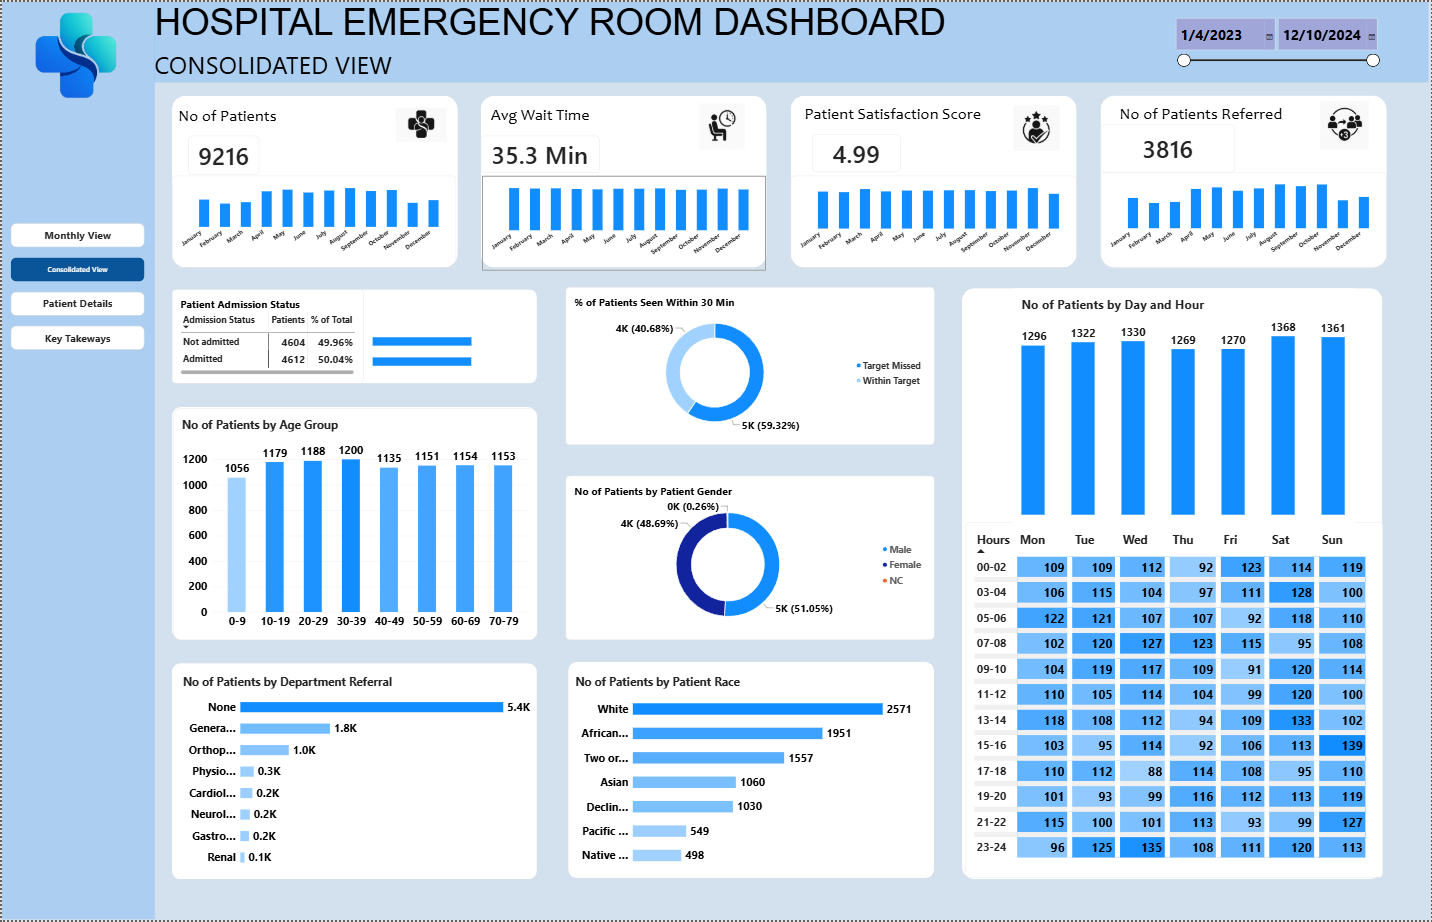

What the dashboard file says about the page in this screenshot:
{"tool":"powerbi","page":{"name":"Consolidated View","canvas":[2800,1800],"ordinal":1},"visuals":[{"type":"shape","box":[0,0,299.7,1797.9],"z":0},{"type":"shape","box":[299.8,0,2496.4,157.8],"z":1000},{"type":"textbox","box":[299.7,0,1587.6,105.1],"z":2000},{"type":"shape","box":[333.8,184,559.9,336.5],"z":3000},{"type":"textbox","box":[299.8,88.4,498.7,69.4],"z":4000},{"type":"card","fields":{"Values":["Hospital ER_Data.No of Patients"]},"box":[365.4,262.9,139.3,76.2],"z":5000},{"type":"slicer","fields":{"Values":["Date Table.Date"]},"box":[2293.3,26.7,410,133.3],"z":6000},{"type":"textbox","box":[344.3,202.4,281.3,42.1],"z":7000},{"type":"shape","box":[1545.6,184,559.9,336.5],"z":8000},{"type":"card","fields":{"Values":["Hospital ER_Data.Satisfaction Score"]},"box":[1587.6,260.2,173.5,73.6],"z":9000},{"type":"textbox","box":[1571.7,198.8,378.7,41],"z":10000},{"type":"columnChart","fields":{"Category":["Date Table.Month Name"],"Y":["Hospital ER_Data.Satisfaction Score"]},"box":[1546.7,340,560,183.3],"z":11000},{"type":"shape","box":[938.4,184,559.9,336.5],"z":12000},{"type":"card","fields":{"Values":["Hospital ER_Data.Avg Wait Time"]},"box":[937.5,262.5,232.5,72.5],"z":13000},{"type":"textbox","box":[956.8,199.8,294.4,42.1],"z":14000},{"type":"columnChart","fields":{"Category":["Date Table.Month Name"],"Y":["Avg(Hospital ER_Data.Patient Waittime)"]},"box":[940,340,556.7,186.7],"z":15000},{"type":"shape","box":[2152.8,184,559.9,336.5],"z":16000},{"type":"card","fields":{"Values":["Hospital ER_Data.No of patients referred"]},"box":[2153.3,240,263.3,93.3],"z":17000},{"type":"textbox","box":[2190.3,198.8,388.2,41],"z":18000},{"type":"columnChart","fields":{"Category":["Date Table.Month Name"],"Y":["Hospital ER_Data.No of patients referred"]},"box":[2153.3,333.3,560,190],"z":19000},{"type":"shape","box":[333.8,562.5,715,184],"z":20000},{"type":"pivotTable","title":"Patient Admission Status","fields":{"Rows":["Hospital ER_Data.Admission Status"],"Values":["Hospital ER_Data.No of Patients1","Hospital ER_Data.No of Patients"]},"box":[333.8,562.5,375.9,184],"z":21000},{"type":"barChart","fields":{"Category":["Hospital ER_Data.Admission Status"],"Y":["Hospital ER_Data.No of Patients"]},"box":[709.7,615.1,283.9,136.7],"z":22000},{"type":"shape","box":[333.8,793.8,715,454.7],"z":23000},{"type":"clusteredColumnChart","fields":{"Category":["Hospital ER_Data.Age Group"],"Y":["Hospital ER_Data.No of Patients"]},"box":[334.5,795.3,713.3,454.5],"z":24000},{"type":"shape","box":[333.8,1295.9,715,423.2],"z":25000},{"type":"barChart","fields":{"Category":["Hospital ER_Data.Department Referral"],"Y":["Hospital ER_Data.No of Patients"]},"box":[337.7,1300.3,713.3,419.8],"z":26000},{"type":"shape","box":[1104.6,561.8,722.7,303],"z":27000},{"type":"donutChart","title":"% of Patients Seen Within 30 Min","fields":{"Category":["Hospital ER_Data.Waitetime Status"],"Y":["Hospital ER_Data.No of Patients"]},"box":[1104.6,558.6,722.7,309.3],"z":28000},{"type":"shape","box":[1110,1293.3,716.7,423.3],"z":29000},{"type":"barChart","fields":{"Y":["Hospital ER_Data.No of Patients"],"Category":["Hospital ER_Data.Patient Race"]},"box":[1107.8,1300.3,716.4,419.8],"z":30000},{"type":"shape","box":[1104.6,927.9,716.4,321.9],"z":31000},{"type":"donutChart","fields":{"Y":["Hospital ER_Data.No of Patients"],"Category":["Hospital ER_Data.Patient Gender"]},"box":[1104.6,927.9,722.7,321.9],"z":32000},{"type":"shape","box":[1881,561.8,823.7,1158.3],"z":33000},{"type":"pivotTable","fields":{"Rows":["Hospital ER_Data.Waitetime Interval"],"Columns":["Date Table.Date Name"],"Values":["Hospital ER_Data.No of Patients"]},"box":[1888.2,1020,817.6,696.9],"z":34000},{"type":"columnChart","title":"No of Patients by Day and Hour","fields":{"Category":["Date Table.Date Name"],"Y":["Hospital ER_Data.No of Patients"]},"box":[1982,561.8,669.1,460.8],"z":35000},{"type":"columnChart","fields":{"Category":["Date Table.Month Name"],"Y":["Hospital ER_Data.No of Patients"]},"box":[333.3,340,556.7,180],"z":36000},{"type":"pageNavigator","box":[17.5,432.5,262.5,250],"z":37000},{"type":"image","box":[17.5,12.5,255,185],"z":38000},{"type":"image","box":[772.5,197.5,100,85],"z":39000},{"type":"image","box":[1360,197.5,102.5,90],"z":40000},{"type":"image","box":[1982.5,195,90,102.5],"z":41000},{"type":"image","box":[2577.5,192.5,107.5,95],"z":42000}]}

Visuals, with their boxes in screenshot pixels (x1, y1, x2, y2), scaled from the page's 2800x1800 canvas onto the 1432x922 screenshot:
shape: 0, 0, 153, 921
shape: 153, 0, 1430, 81
textbox: 153, 0, 965, 54
shape: 171, 94, 457, 267
textbox: 153, 45, 408, 81
card - Hospital ER_Data.No of Patients: 187, 135, 258, 174
slicer - Date Table.Date: 1173, 14, 1383, 82
textbox: 176, 104, 320, 125
shape: 790, 94, 1077, 267
card - Hospital ER_Data.Satisfaction Score: 812, 133, 901, 171
textbox: 804, 102, 997, 123
columnChart - Date Table.Month Name x Hospital ER_Data.Satisfaction Score: 791, 174, 1077, 268
shape: 480, 94, 766, 267
card - Hospital ER_Data.Avg Wait Time: 479, 134, 598, 172
textbox: 489, 102, 640, 124
columnChart - Date Table.Month Name x Avg(Hospital ER_Data.Patient Waittime): 481, 174, 765, 270
shape: 1101, 94, 1387, 267
card - Hospital ER_Data.No of patients referred: 1101, 123, 1236, 171
textbox: 1120, 102, 1319, 123
columnChart - Date Table.Month Name x Hospital ER_Data.No of patients referred: 1101, 171, 1388, 268
shape: 171, 288, 536, 382
"Patient Admission Status" pivotTable: 171, 288, 363, 382
barChart - Hospital ER_Data.Admission Status x Hospital ER_Data.No of Patients: 363, 315, 508, 385
shape: 171, 407, 536, 640
clusteredColumnChart - Hospital ER_Data.Age Group x Hospital ER_Data.No of Patients: 171, 407, 536, 640
shape: 171, 664, 536, 881
barChart - Hospital ER_Data.Department Referral x Hospital ER_Data.No of Patients: 173, 666, 538, 881
shape: 565, 288, 935, 443
"% of Patients Seen Within 30 Min" donutChart: 565, 286, 935, 445
shape: 568, 662, 934, 879
barChart - Hospital ER_Data.No of Patients x Hospital ER_Data.Patient Race: 567, 666, 933, 881
shape: 565, 475, 931, 640
donutChart - Hospital ER_Data.No of Patients x Hospital ER_Data.Patient Gender: 565, 475, 935, 640
shape: 962, 288, 1383, 881
pivotTable - Hospital ER_Data.Waitetime Interval x Date Table.Date Name: 966, 522, 1384, 879
"No of Patients by Day and Hour" columnChart: 1014, 288, 1356, 524
columnChart - Date Table.Month Name x Hospital ER_Data.No of Patients: 170, 174, 455, 266
pageNavigator: 9, 222, 143, 350
image: 9, 6, 139, 101
image: 395, 101, 446, 145
image: 696, 101, 748, 147
image: 1014, 100, 1060, 152
image: 1318, 99, 1373, 147
